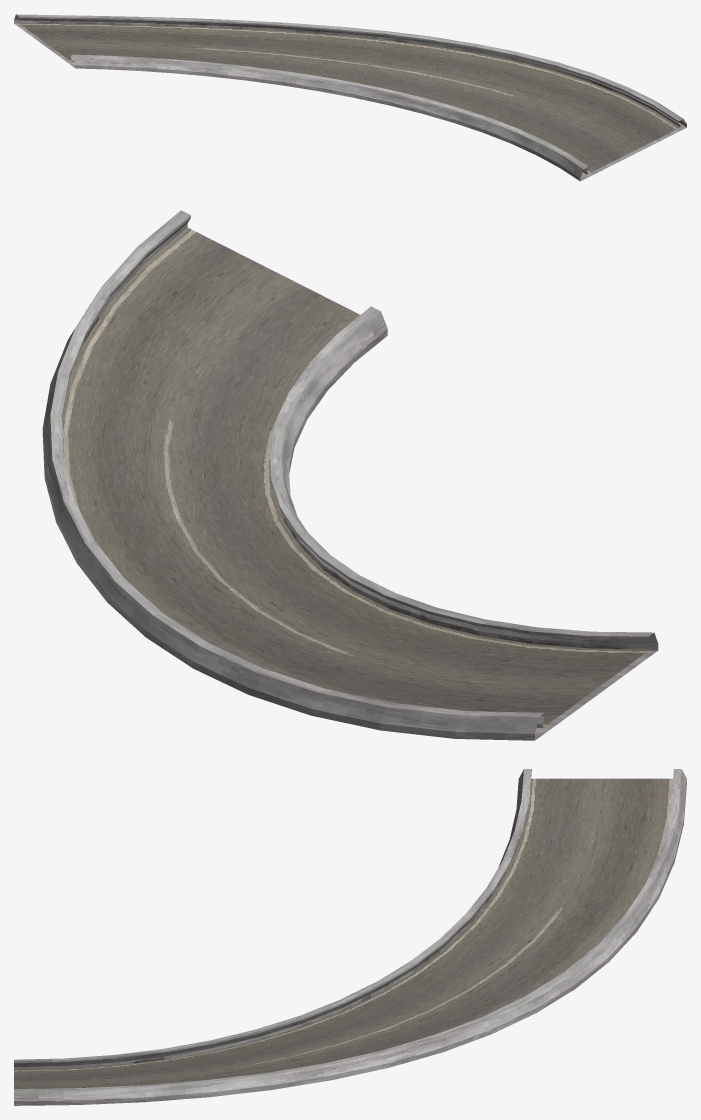
The model's file is turn-left4x4.glb.
3 renders of one model, top to bottom at view 1: azimuth 30°, elevation 25°; view 2: azimuth 150°, elevation 25°; view 3: azimuth 270°, elevation 25°, orthographic. The views are drawn at different scales.
Visible parts, largest first — view 1: road-Turn-HalfBankedLeft-BiSlopeUp-Up2-Left-Size4; view 2: road-Turn-HalfBankedLeft-BiSlopeUp-Up2-Left-Size4; view 3: road-Turn-HalfBankedLeft-BiSlopeUp-Up2-Left-Size4.
Boxes of the visible parts, box(x1,y1,x2,y2) form: road-Turn-HalfBankedLeft-BiSlopeUp-Up2-Left-Size4: box(14, 14, 686, 181); road-Turn-HalfBankedLeft-BiSlopeUp-Up2-Left-Size4: box(42, 210, 658, 740); road-Turn-HalfBankedLeft-BiSlopeUp-Up2-Left-Size4: box(14, 769, 686, 1105).
Size of the model in its own units: 4 by 0.5937 by 4.
2 materials, 2 textured.
